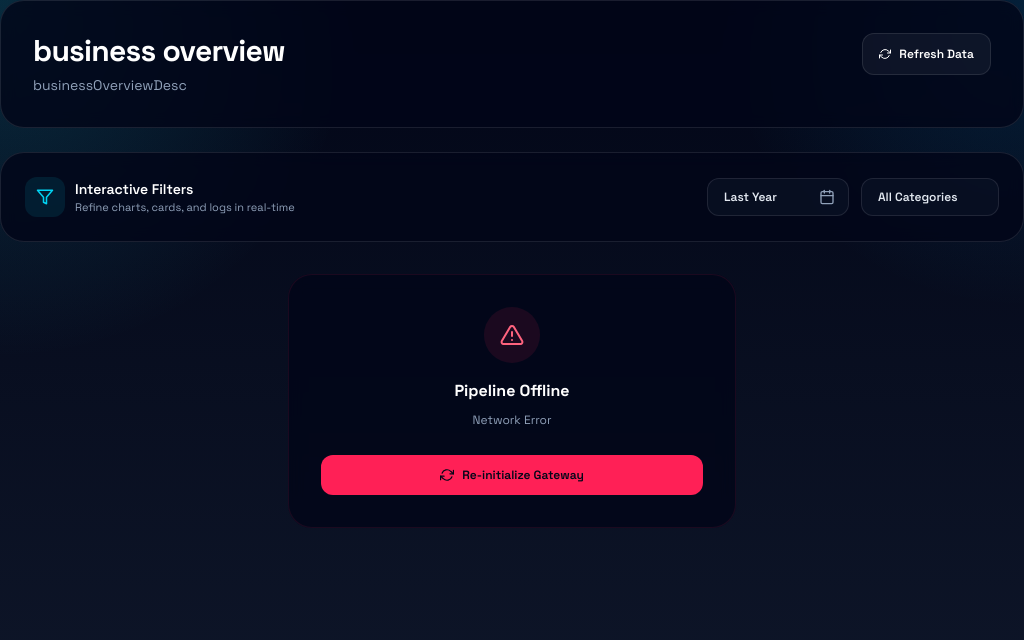
Test: BusinessOverviewPage Component Tests › renders error panel on fetch failure and allows retry
This screenshot has width=1024, height=640.
expect the heading "Pipeline Offline" is shown: met, box [454, 380, 570, 401]
expect the text "Network Error" is shown: met, box [473, 412, 552, 428]
Click the button "Re-initialize Gateway".
click(512, 474)  # box [321, 454, 703, 494]
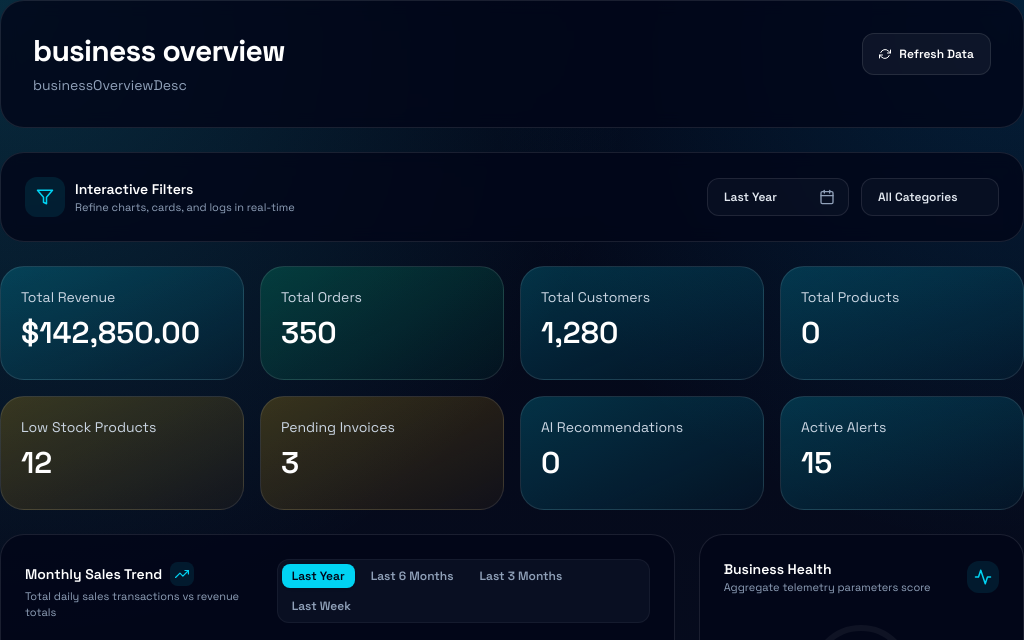
expect the text "Total Revenue" is shown: met, box [21, 288, 115, 306]
